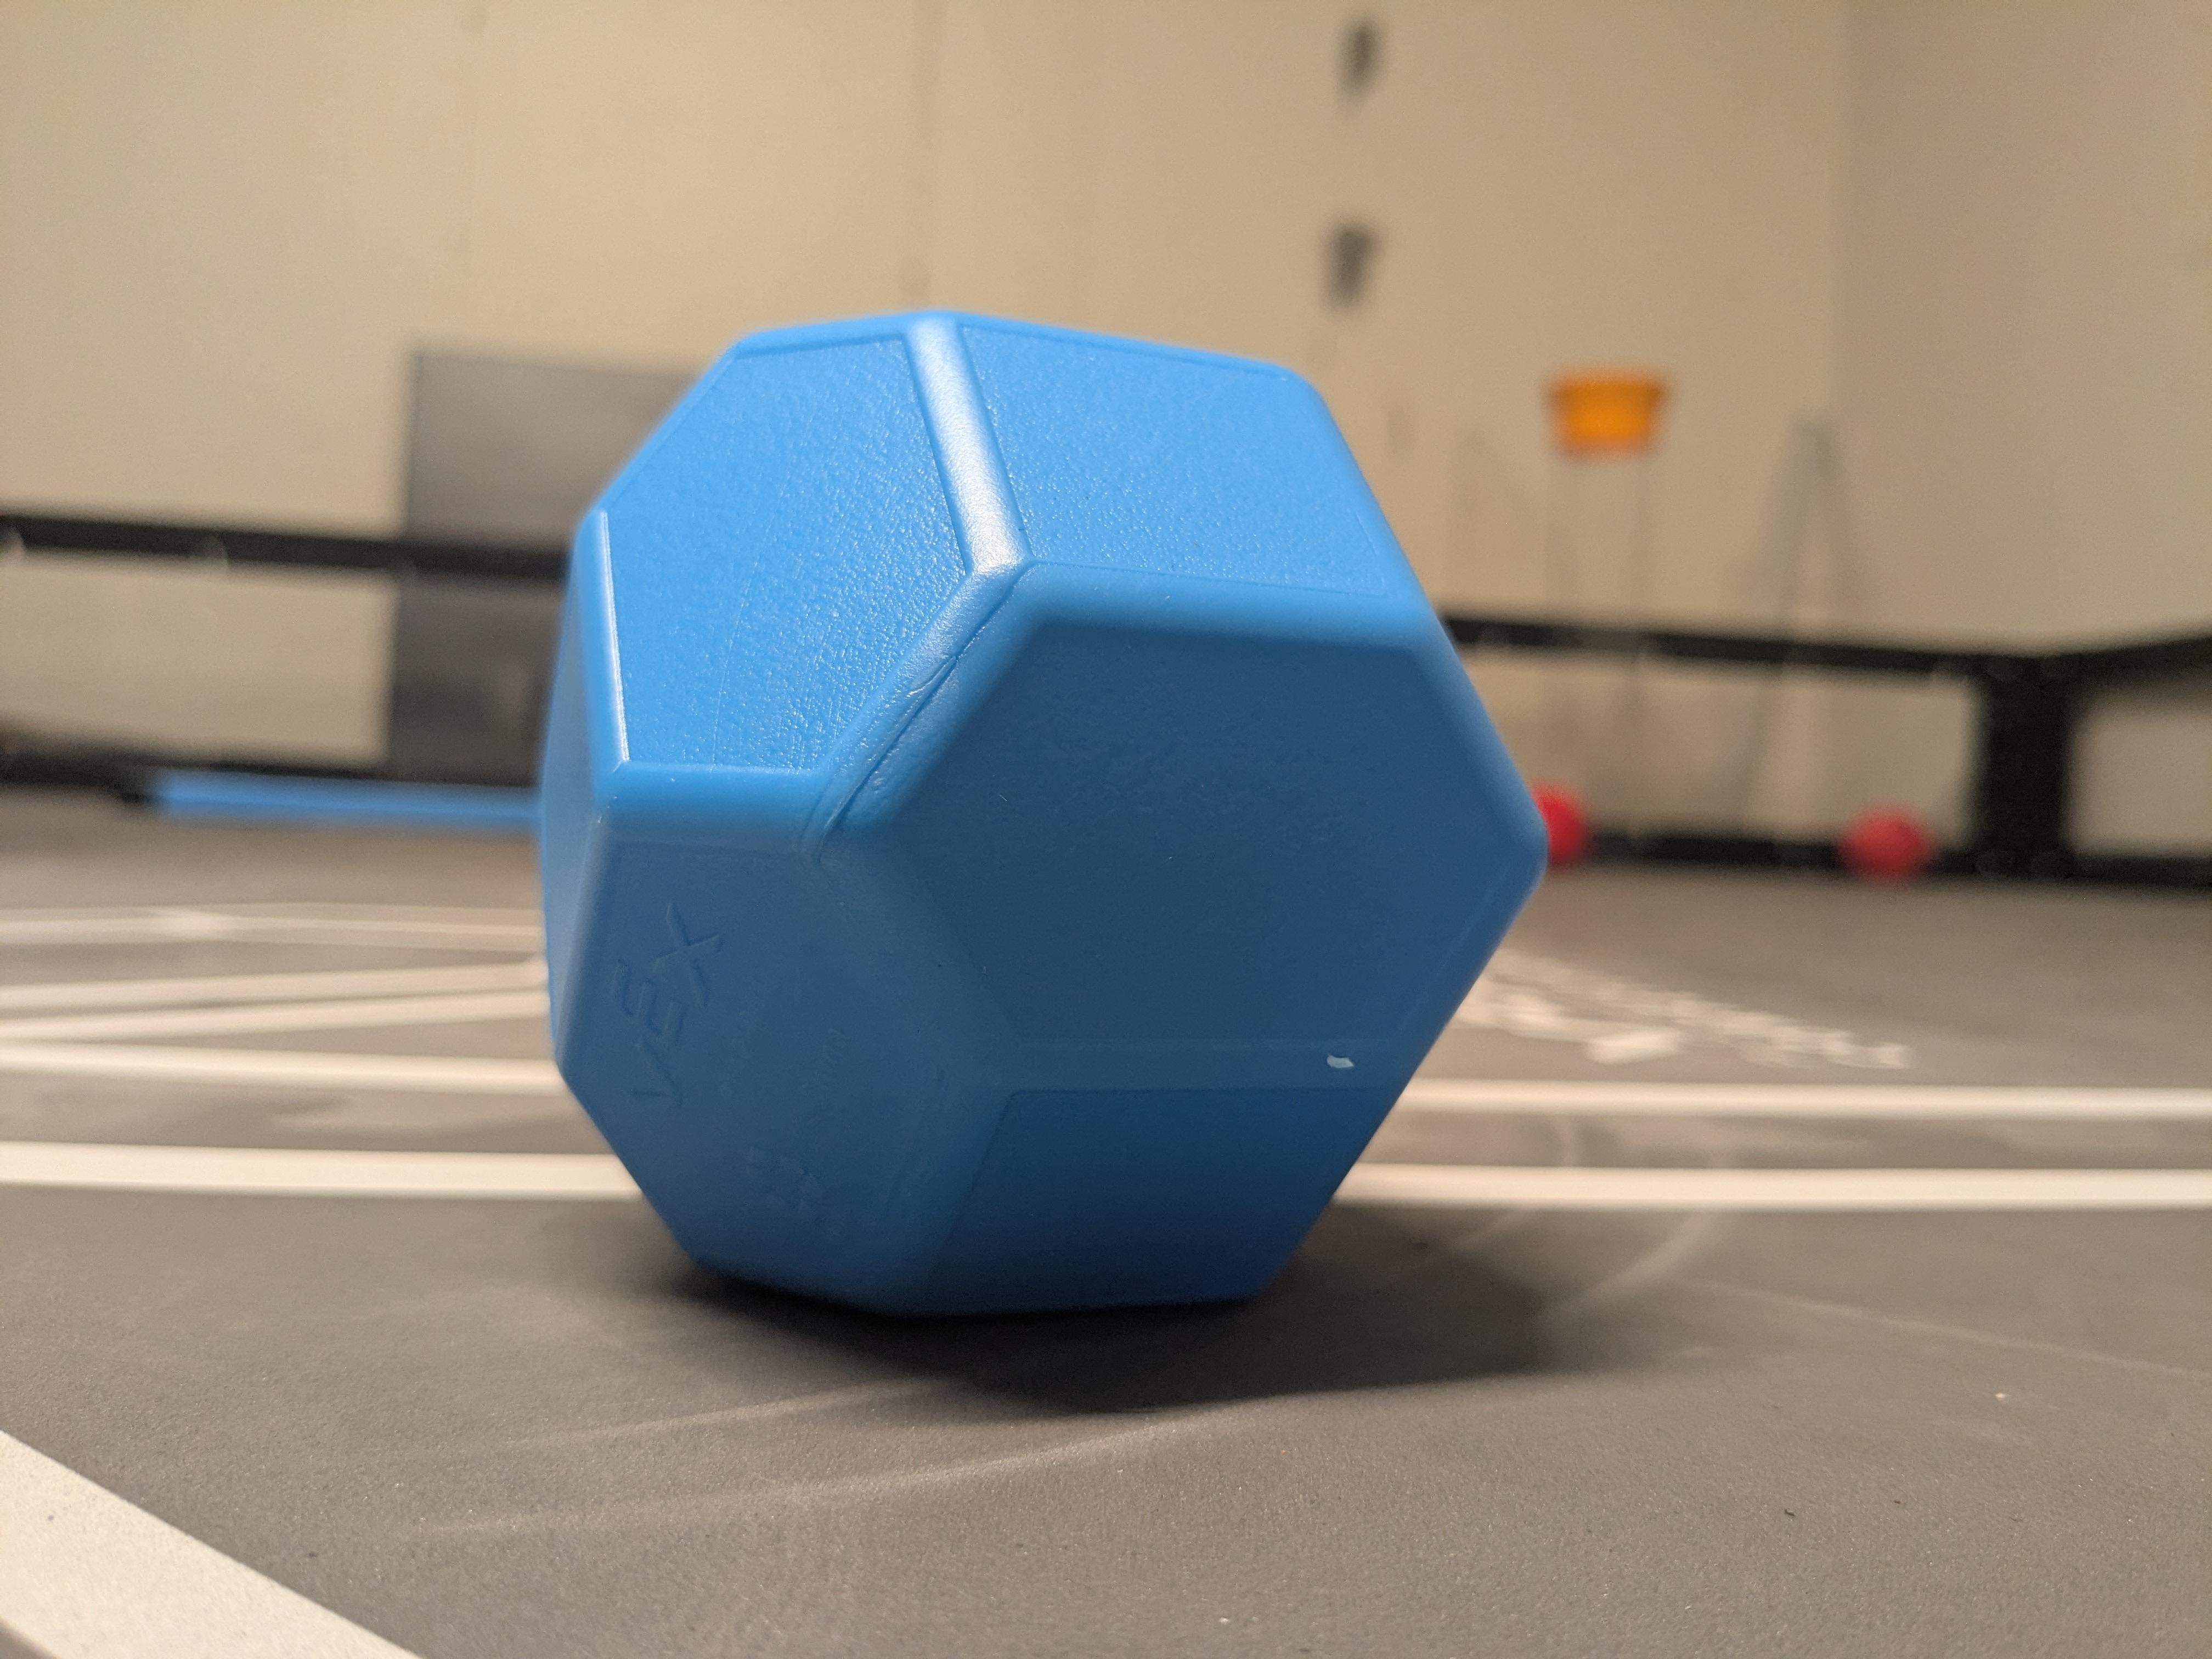Vex-Pieces-BLUE: (528, 310, 1571, 1310)
Vex-Pieces-RED: (0, 1438, 408, 1656)
